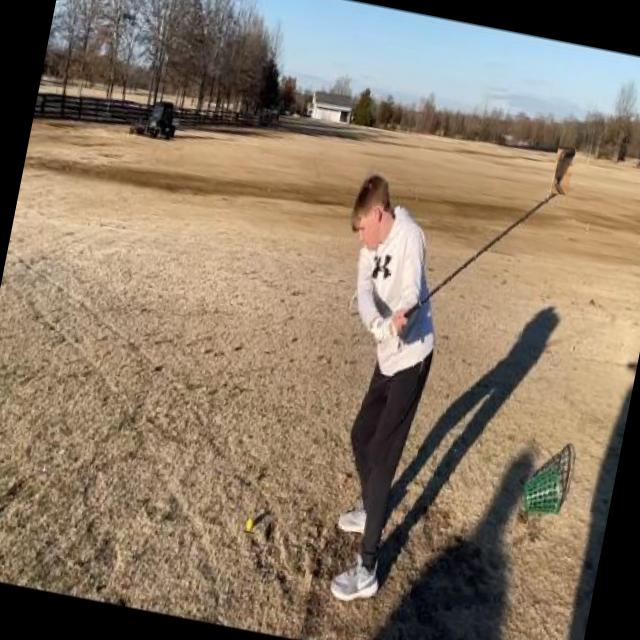club head: (550, 145, 576, 196)
